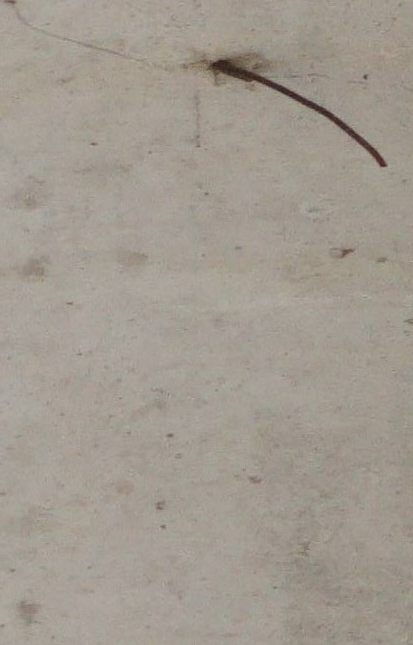Crack: (10, 1, 145, 63)
Exposed reinforcement: (209, 59, 388, 168)
